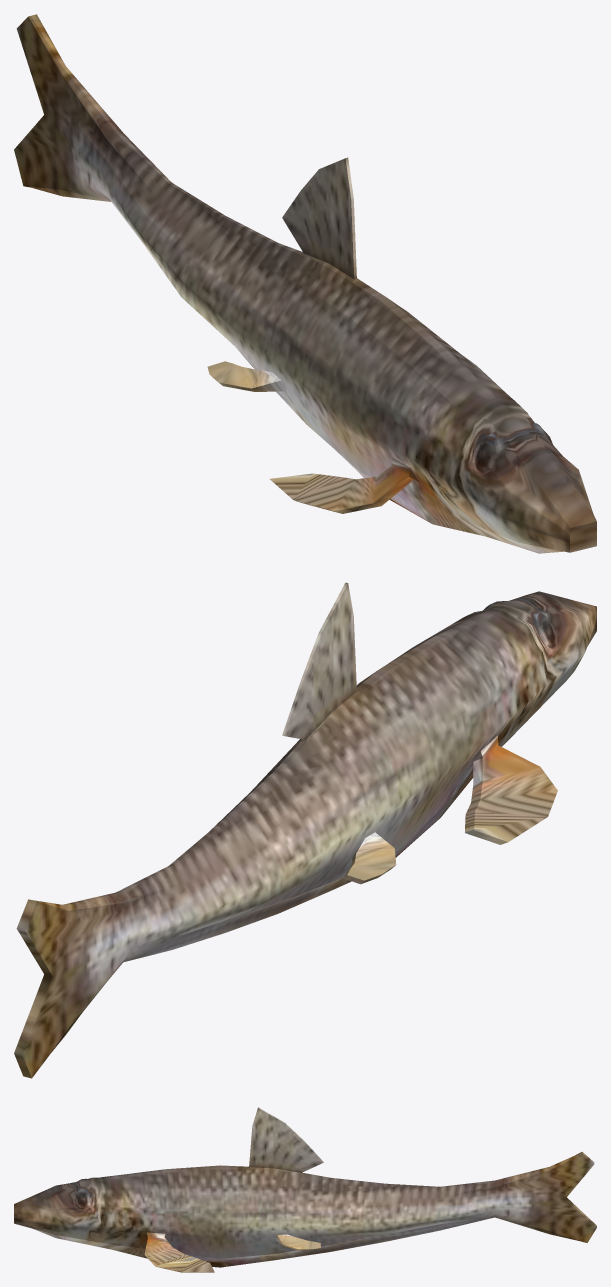
The model's file is kamatuka_model.fbx.
The picture shows the model from 3 angles, top to bottom: view 1: azimuth 30°, elevation 25°; view 2: azimuth 150°, elevation 25°; view 3: azimuth 270°, elevation 25°; orthographic projection. The views are drawn at different scales.
Parts seen in each view (by area): view 1: pCube1; view 2: pCube1; view 3: pCube1.
Boxes of the visible parts, box(x1,y1,x2,y2) form: pCube1: box(14, 14, 596, 553); pCube1: box(14, 582, 596, 1078); pCube1: box(14, 1107, 596, 1272).
Size of the model in its own units: 1.26 by 1.46 by 4.84.
